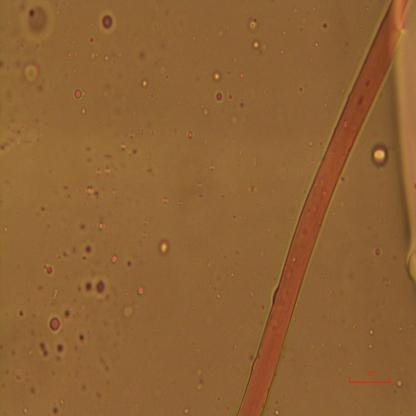Air bubble: (393, 50, 416, 288)
Background material: (15, 0, 56, 42), (370, 143, 390, 172), (82, 278, 108, 300), (0, 130, 23, 154), (20, 61, 42, 84), (99, 9, 115, 37), (35, 337, 50, 358), (244, 15, 259, 34), (79, 241, 93, 261), (97, 354, 111, 374), (48, 314, 62, 333), (157, 238, 171, 256), (54, 341, 67, 360), (84, 183, 98, 200), (121, 302, 135, 318), (70, 88, 85, 102), (62, 245, 76, 259), (134, 284, 146, 298), (120, 386, 132, 400), (212, 69, 223, 84), (95, 221, 107, 234), (380, 274, 391, 288), (50, 286, 61, 300), (138, 229, 148, 244), (42, 262, 53, 275), (153, 385, 163, 399), (62, 184, 72, 198), (193, 378, 204, 390), (11, 56, 23, 67), (109, 253, 119, 266), (67, 50, 78, 61), (128, 146, 139, 157), (260, 43, 270, 55), (200, 105, 210, 117), (230, 114, 240, 126), (140, 76, 149, 89), (51, 402, 60, 415), (138, 47, 146, 61), (252, 39, 262, 50), (89, 50, 99, 61), (373, 247, 384, 257), (157, 66, 168, 76), (108, 188, 118, 199), (80, 219, 88, 232), (36, 84, 46, 94), (124, 258, 134, 268), (63, 308, 72, 319), (38, 202, 46, 214), (147, 162, 153, 177), (215, 92, 224, 102), (216, 28, 225, 38), (1, 223, 10, 233), (186, 129, 194, 140), (182, 405, 190, 416), (287, 349, 294, 361), (95, 164, 101, 178), (396, 376, 402, 390), (248, 184, 258, 192), (394, 325, 404, 333), (78, 332, 86, 342), (58, 396, 66, 406), (6, 86, 12, 99), (79, 106, 87, 115), (106, 154, 115, 162), (121, 140, 127, 152), (95, 391, 103, 400), (322, 20, 329, 30), (17, 309, 24, 319), (0, 60, 6, 71), (238, 72, 246, 80), (128, 131, 136, 139), (162, 196, 169, 205), (101, 319, 108, 328), (80, 384, 87, 393), (105, 166, 110, 178), (31, 386, 37, 396), (196, 368, 203, 376), (272, 409, 280, 416), (14, 373, 21, 381), (149, 91, 155, 100), (352, 321, 358, 330), (298, 85, 304, 94), (240, 101, 246, 110), (196, 180, 203, 187), (27, 348, 34, 355), (102, 54, 108, 62), (337, 342, 343, 350), (220, 191, 226, 199), (85, 146, 91, 154), (85, 158, 93, 164), (253, 156, 257, 167), (320, 340, 326, 347), (368, 343, 374, 350), (177, 199, 183, 206), (90, 37, 96, 44), (143, 220, 150, 226), (4, 368, 10, 375), (39, 283, 43, 293), (228, 94, 234, 100), (131, 110, 137, 116), (298, 26, 304, 32), (293, 8, 299, 14), (314, 40, 319, 47), (209, 164, 214, 171), (370, 329, 374, 337), (142, 128, 146, 136), (381, 216, 385, 224), (207, 260, 211, 268), (250, 289, 254, 297), (261, 303, 265, 311), (31, 328, 35, 336), (25, 406, 29, 414), (232, 214, 237, 219), (266, 228, 272, 232), (341, 201, 344, 209), (233, 342, 236, 350), (217, 293, 220, 300), (231, 271, 235, 276), (310, 142, 314, 147), (199, 194, 203, 199), (349, 361, 353, 366), (213, 287, 218, 291), (283, 32, 288, 36), (151, 130, 155, 135), (281, 49, 284, 54), (12, 350, 15, 355)
Microfibre: (235, 0, 411, 416)
